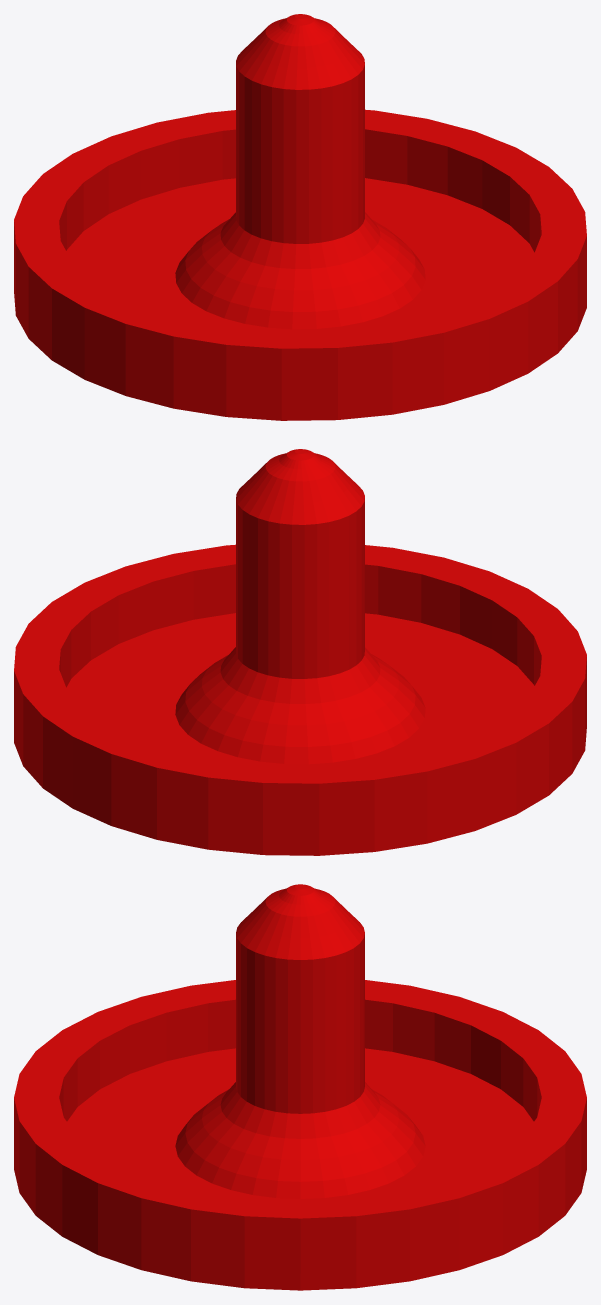
Rendered from pommeau.obj.
The picture shows the model from 3 angles, top to bottom: view 1: azimuth 30°, elevation 25°; view 2: azimuth 150°, elevation 25°; view 3: azimuth 270°, elevation 25°; orthographic projection.
Visible parts, largest first — view 1: Cylinder; view 2: Cylinder; view 3: Cylinder.
Part boxes in pixels (x1,y1,x2,y2): Cylinder: (14,14,586,420); Cylinder: (14,449,586,855); Cylinder: (14,884,586,1290).
Size of the model in its own units: 3.92 by 2.13 by 3.92.
1 material, 1 textured.
